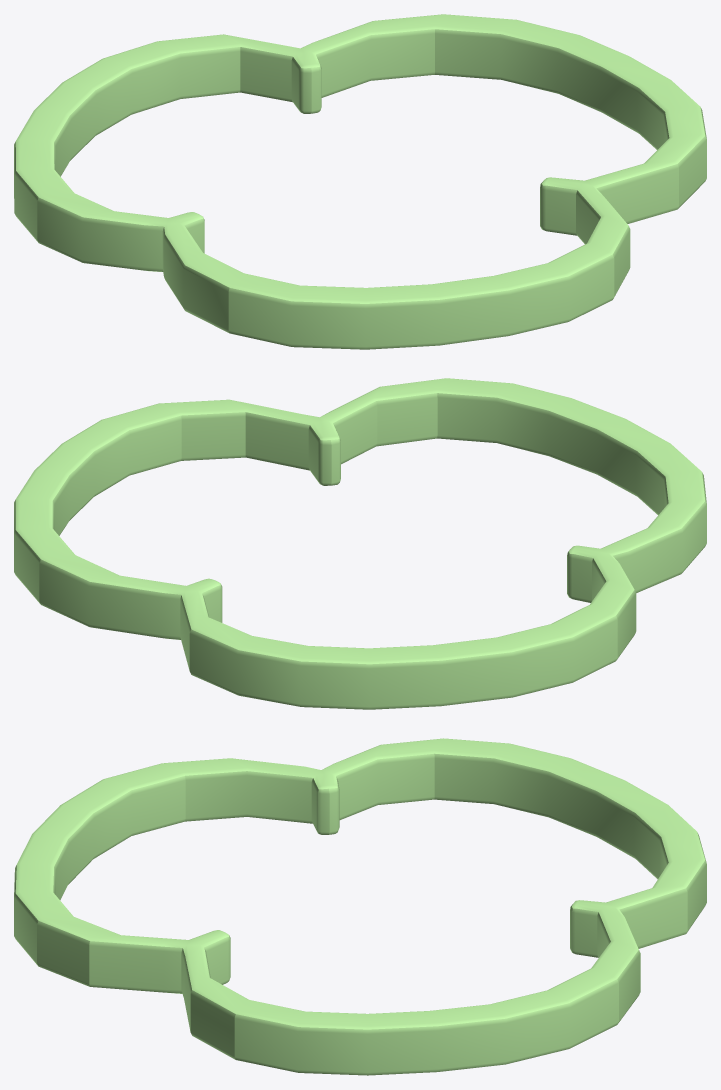
File: Pepper.fbx
3 renders of one model, top to bottom at view 1: azimuth 30°, elevation 25°; view 2: azimuth 150°, elevation 25°; view 3: azimuth 270°, elevation 25°, orthographic.
Parts seen in each view (by area): view 1: green_pepper; view 2: green_pepper; view 3: green_pepper.
Boxes of the visible parts, box(x1,y1,x2,y2) form: green_pepper: box(14, 14, 706, 349); green_pepper: box(14, 378, 706, 709); green_pepper: box(14, 738, 706, 1075).
Size of the model in its own units: 0.1383 by 0.0108 by 0.1384.
